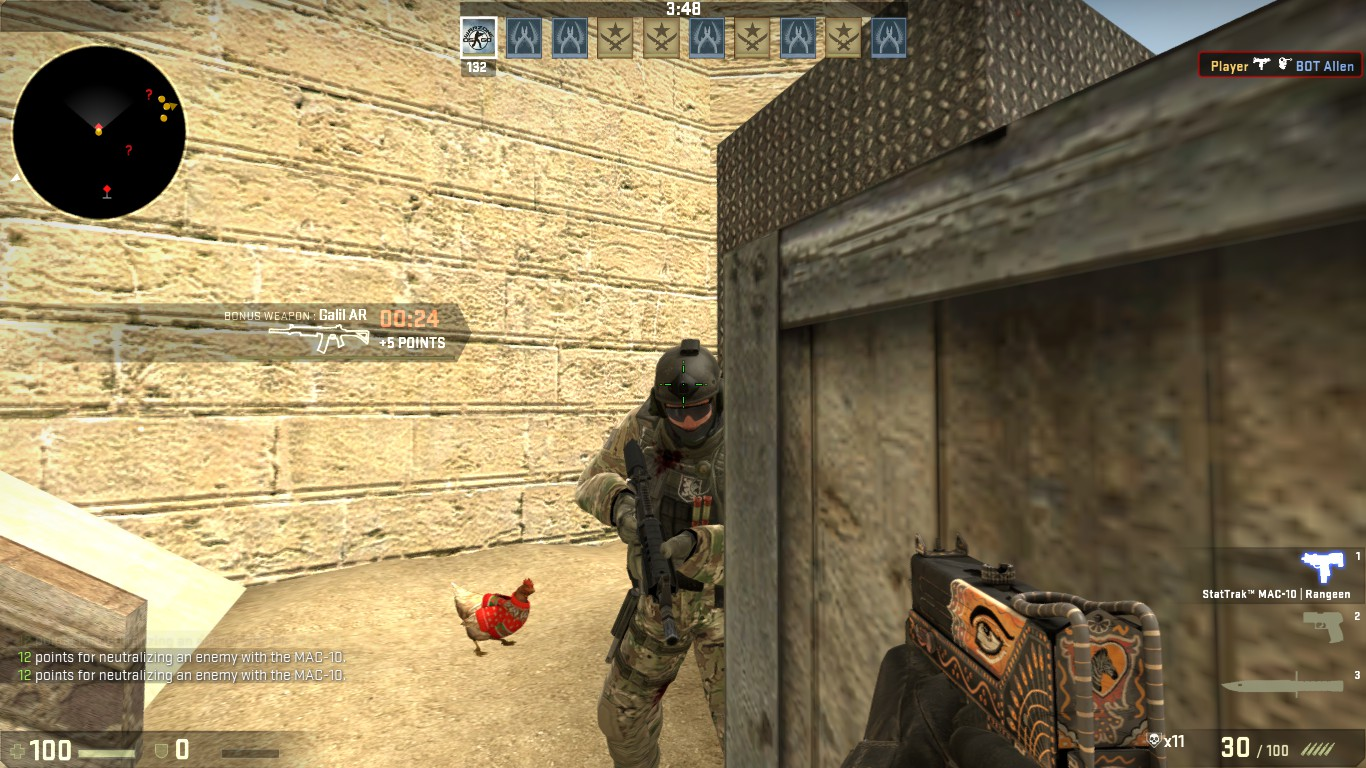c: (578, 334, 732, 768)
ch: (636, 335, 746, 450)
